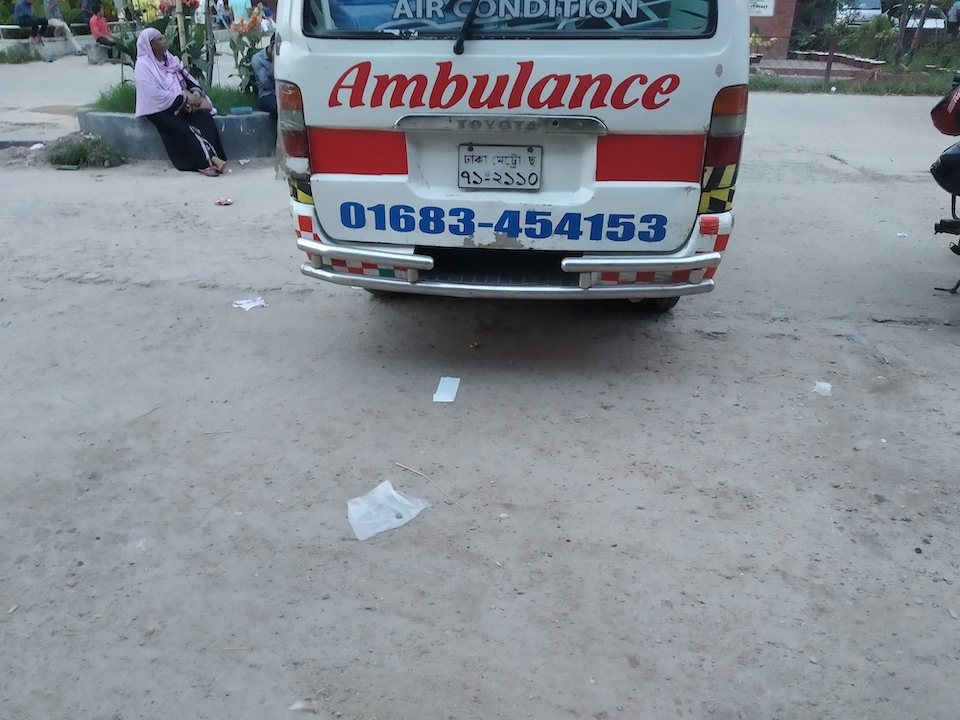registration_plate: (458, 143, 543, 190)
